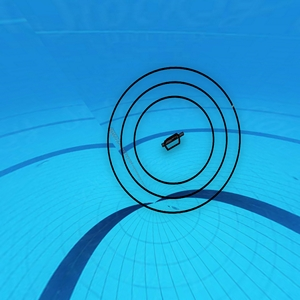circle: (99, 64, 240, 218)
submarine: (163, 131, 186, 152)
